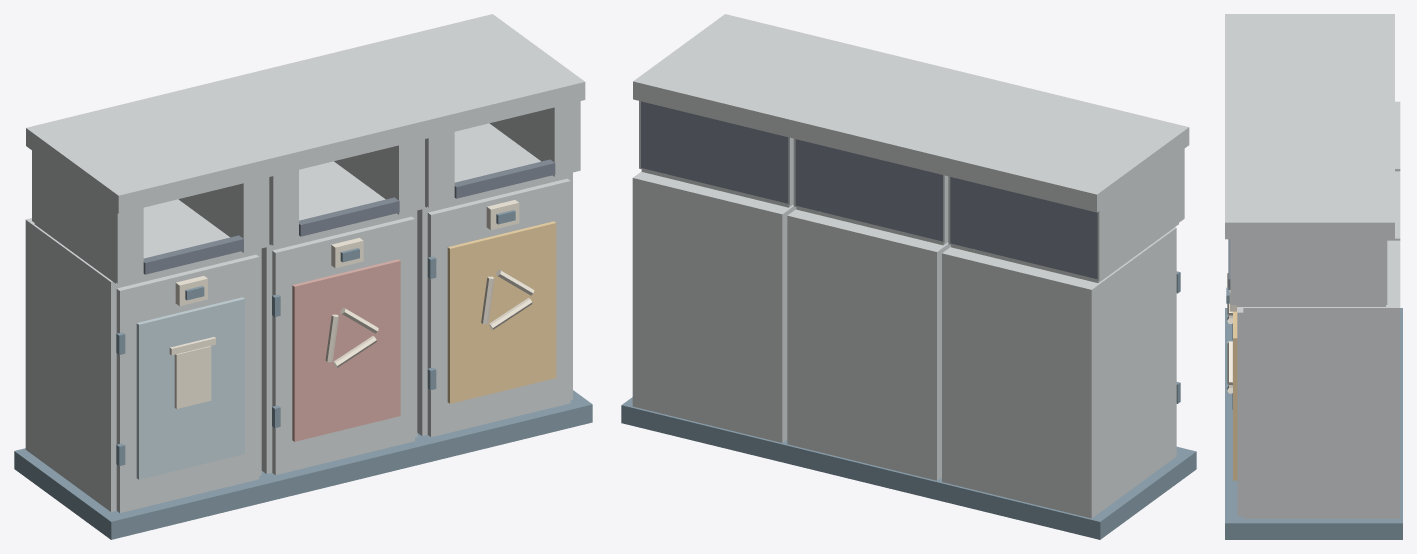
The model's file is prop-trashcan.glb.
3 views of the same model, side by side, from view 1: azimuth 30°, elevation 25°; view 2: azimuth 150°, elevation 25°; view 3: azimuth 270°, elevation 25° (orthographic). The views are drawn at different scales.
Visible parts, largest first — view 1: plinth_0, classification_panel_3; view 2: plinth_0; view 3: plinth_0, classification_panel_3.
Boxes of the visible parts, <box> form: plinth_0: <box>14,14,592,539</box>; classification_panel_3: <box>136,200,556,479</box>; plinth_0: <box>621,14,1196,539</box>; plinth_0: <box>1225,14,1402,539</box>; classification_panel_3: <box>1227,272,1237,480</box>.
Size of the model in its own units: 1.95 by 1.33 by 0.6799.
2 materials, 2 textured.
